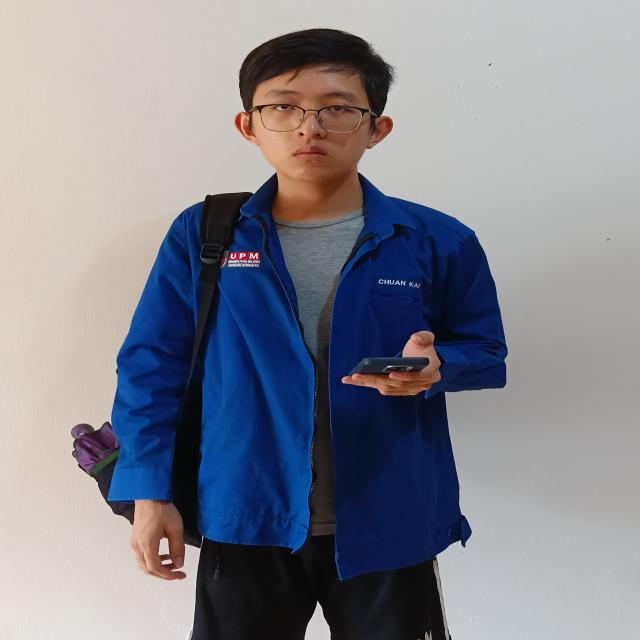person_with_labcoat: (72, 29, 507, 640)
